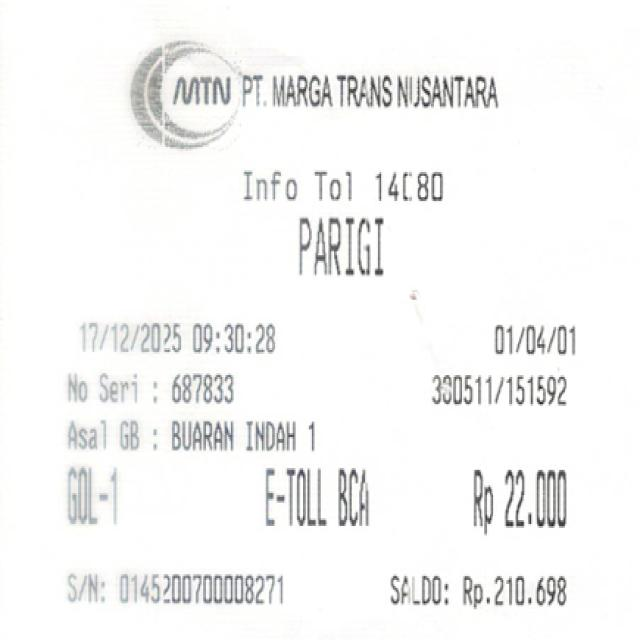date: (74, 323, 280, 358)
store: (170, 74, 502, 110)
total: (442, 463, 576, 537)
